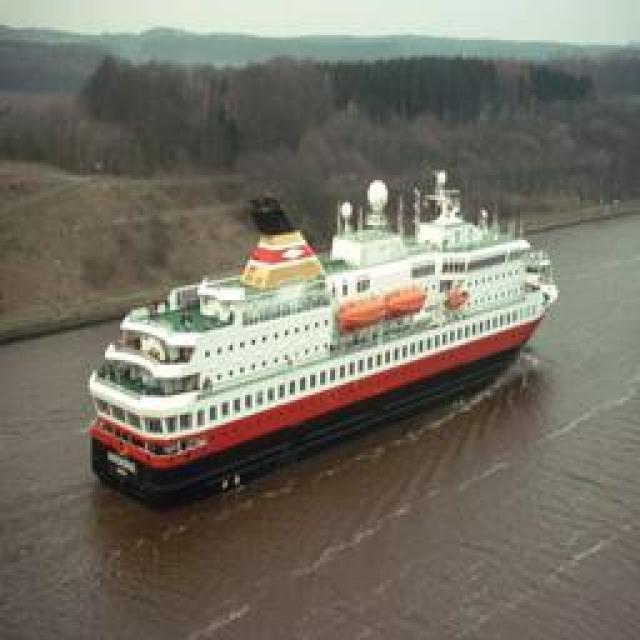CIV_Ship: (92, 164, 556, 516)
